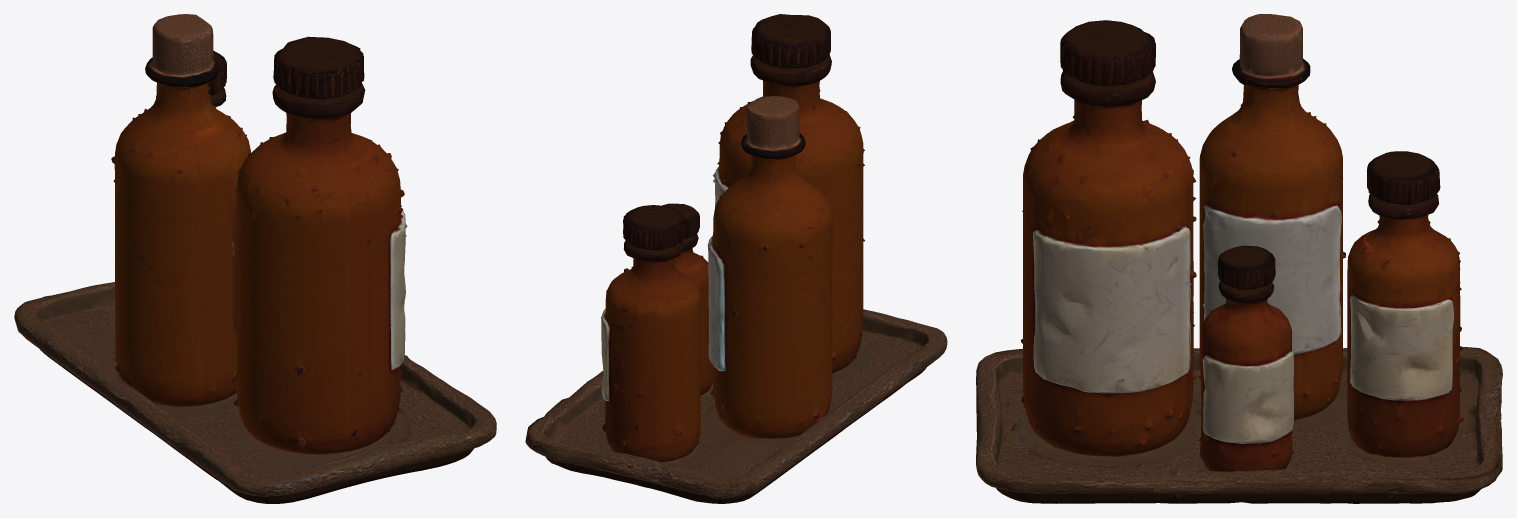
The model's file is scene-medicine-bottles-v03.glb.
3 views of the same model, side by side, from view 1: azimuth 30°, elevation 25°; view 2: azimuth 150°, elevation 25°; view 3: azimuth 270°, elevation 25° (orthographic). The views are drawn at different scales.
Parts seen in each view (by area): view 1: tripo_node_ed72b7fb-73e2-4897-a1a8-692e72912431; view 2: tripo_node_ed72b7fb-73e2-4897-a1a8-692e72912431; view 3: tripo_node_ed72b7fb-73e2-4897-a1a8-692e72912431.
Part boxes in pixels (<box>): tripo_node_ed72b7fb-73e2-4897-a1a8-692e72912431: <box>14,14,496,503</box>; tripo_node_ed72b7fb-73e2-4897-a1a8-692e72912431: <box>525,14,947,503</box>; tripo_node_ed72b7fb-73e2-4897-a1a8-692e72912431: <box>976,14,1502,503</box>.
Bounding box in the file's own units: 0.1389 × 0.2 × 0.2307.
Materials: 1 (1 with a texture image).
